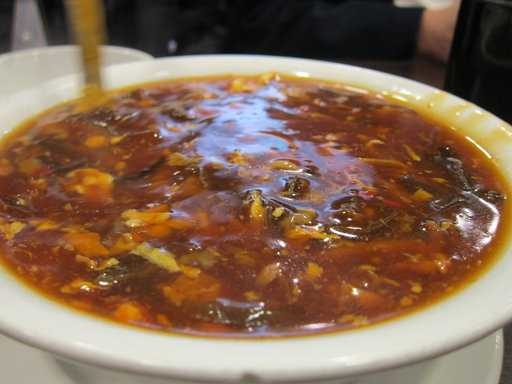soup: (9, 82, 486, 331)
